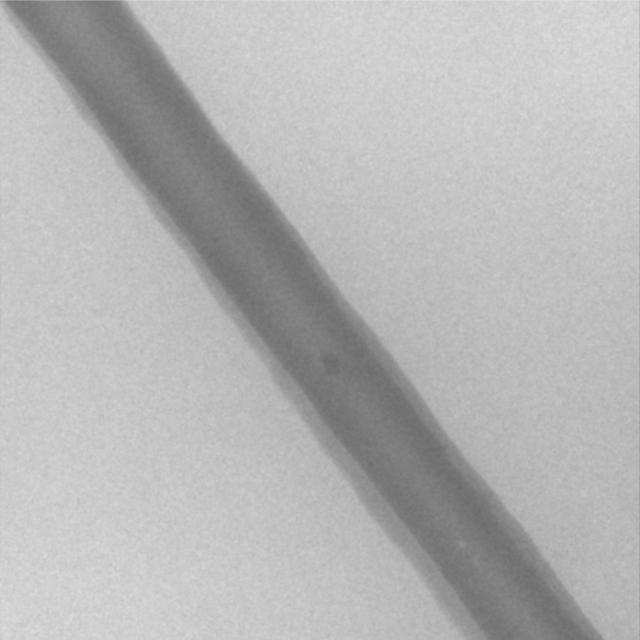air hole: (455, 539, 466, 550)
